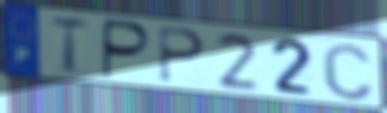2: (268, 36, 318, 99), (213, 31, 261, 91)
C: (320, 40, 376, 103)
P: (100, 17, 154, 82), (157, 24, 208, 86)
T: (50, 14, 91, 77)
